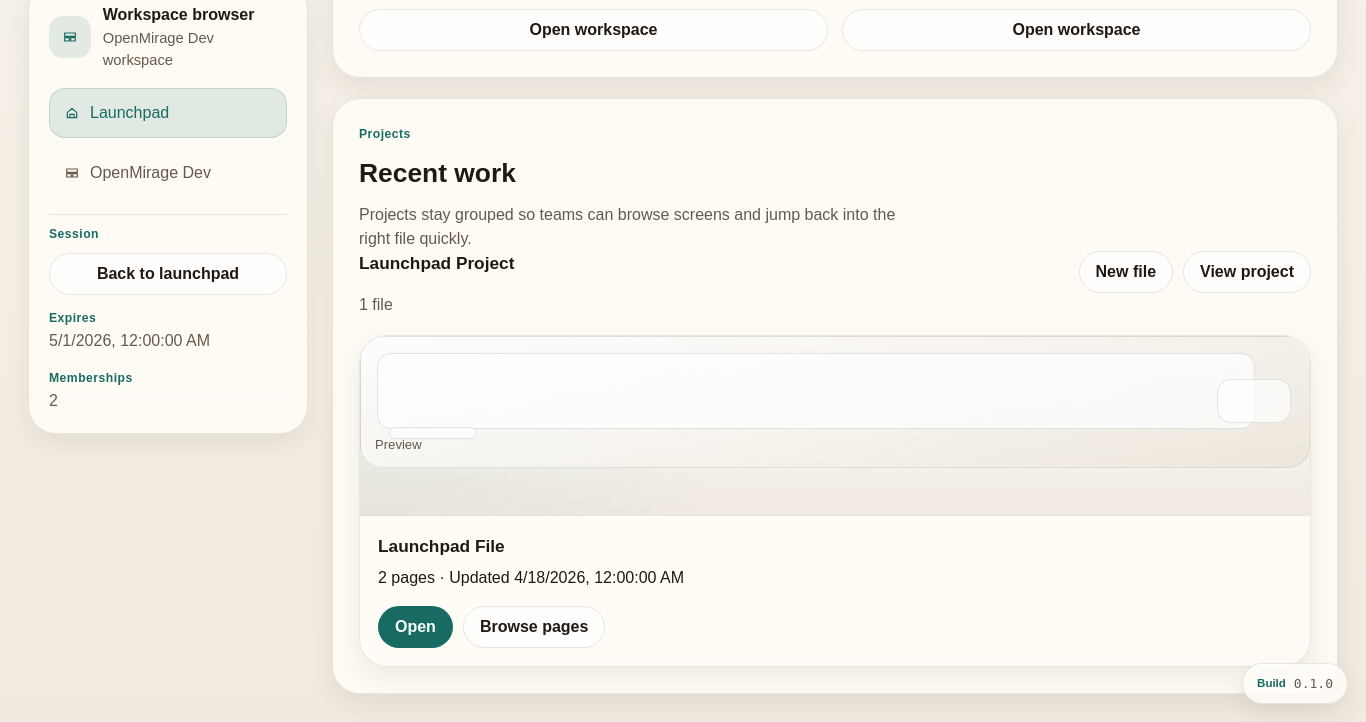
it: App auth and routing flows › shows an inline browse error when page loading fails
(page scrolled)
Expected: the text "Launchpad File" is shown, [378,536,505,556]
Click the button "Browse pages".
click(534, 627)  # box [463,606,605,648]
(page scrolled)
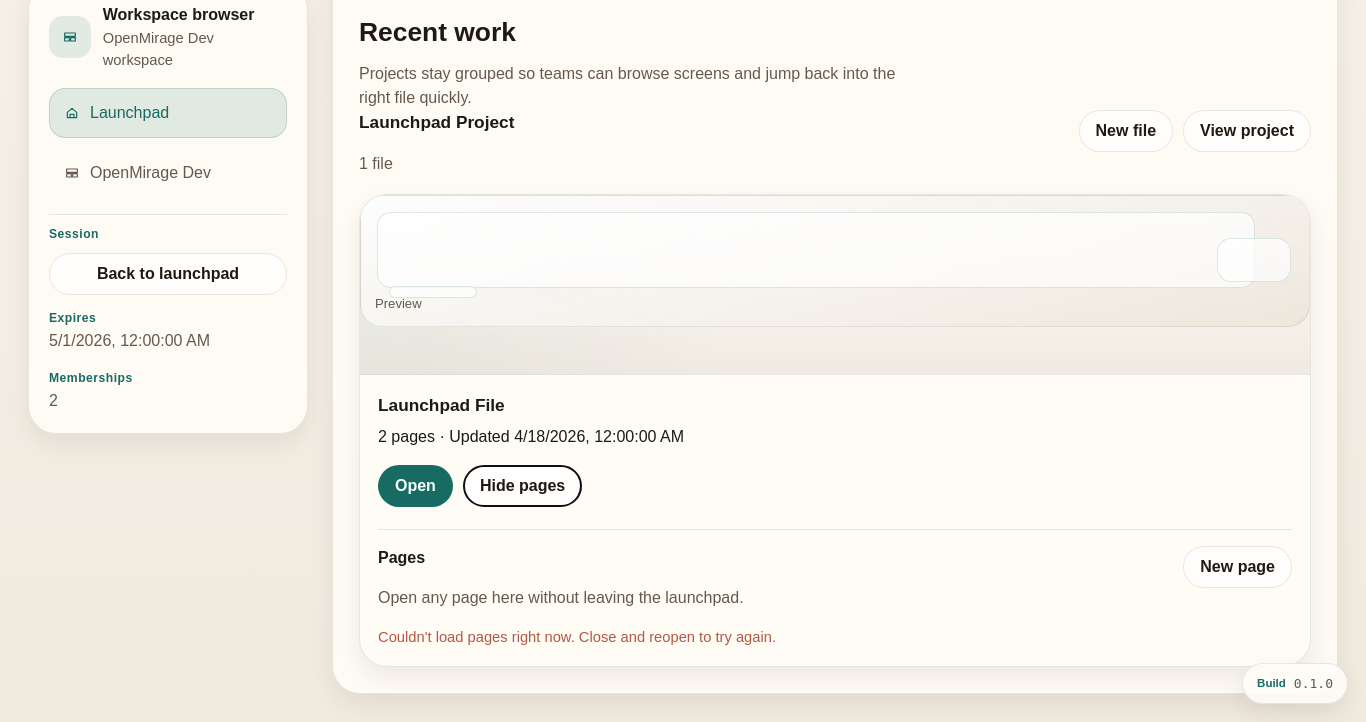
Result: the text "Couldn't load pages right now. Close and reopen to try again." is shown at [378,629,776,645]
